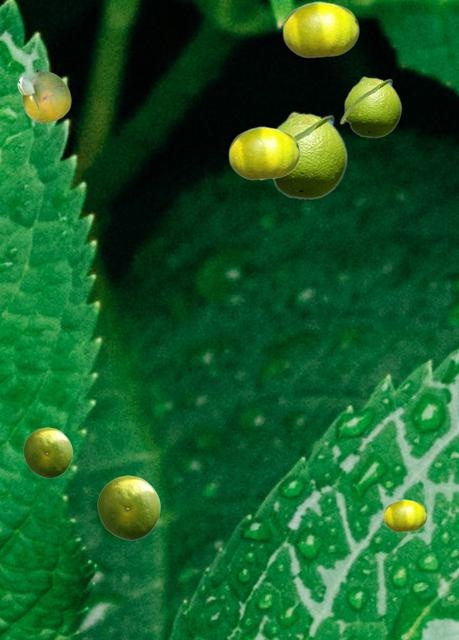dalandan: (259, 111, 347, 199), (282, 1, 358, 57), (97, 475, 159, 539), (339, 76, 401, 137), (228, 126, 299, 179), (17, 70, 70, 122), (23, 427, 71, 477), (383, 499, 426, 531)
